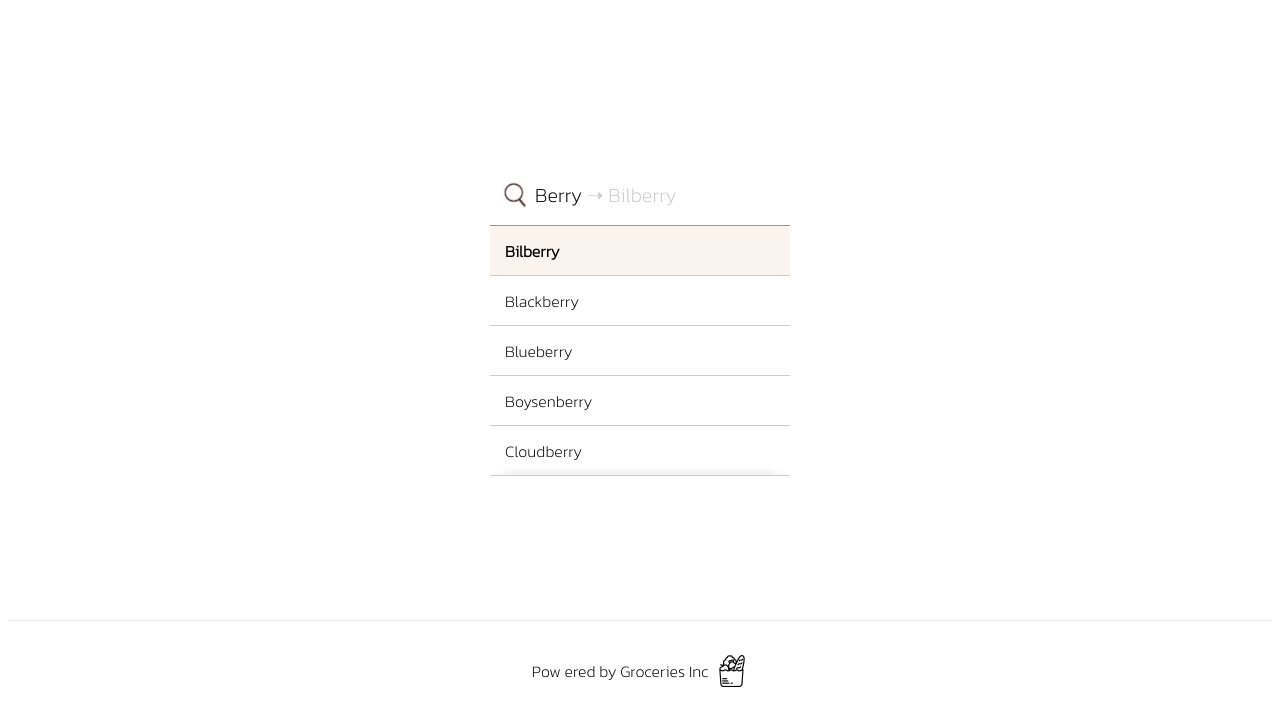
Test: Nav Menus › 720p resolution › When you visit home › When selecting suggestion › Should show input with selected suggestion
Click the list item with test id "autocomplete-suggestion-0": (640, 251) [490,226,790,276]
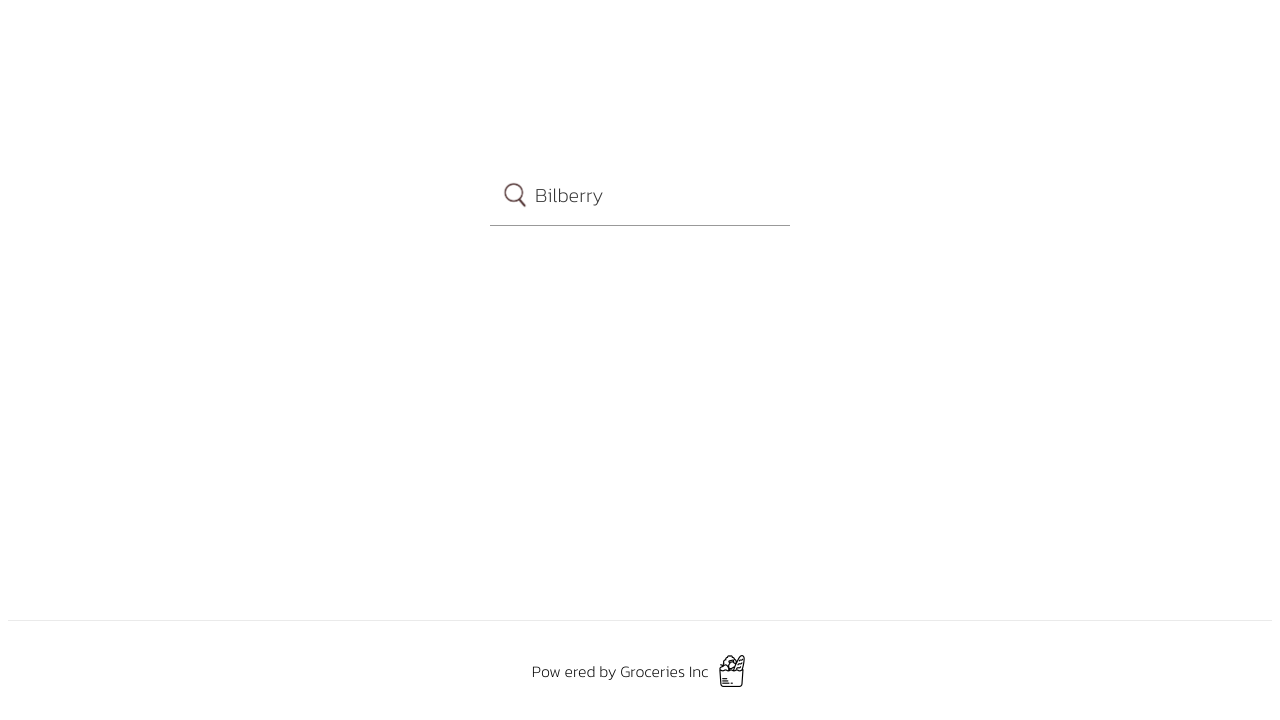
Result: the field with test id "autocomplete-input" holds "Bilberry" at [490,160,790,226]
